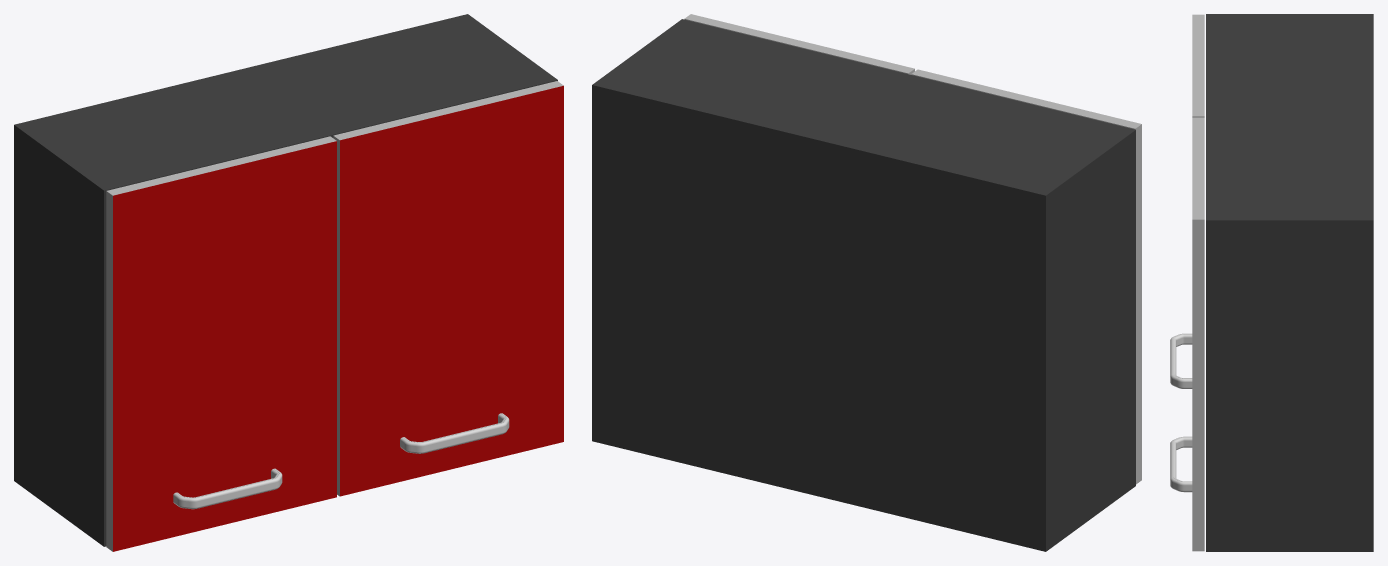
Rendered from pensileDoppio.obj.
3 views of the same model, side by side, from view 1: azimuth 30°, elevation 25°; view 2: azimuth 150°, elevation 25°; view 3: azimuth 270°, elevation 25° (orthographic). The views are drawn at different scales.
Parts seen in each view (by area): view 1: Box182_7, Box172_2, Box16_5, Box183_8, Box17_1, Box18_6, Loft09_9, Loft08_4, Box173_3; view 2: Box16_5, Box183_8, Box18_6, Box17_1; view 3: Box16_5, Box173_3, Box17_1, Box18_6, Loft08_4, Loft09_9.
Boxes of the visible parts, box(x1,y1,x2,y2) form: Box182_7: box(113, 141, 336, 551); Box172_2: box(340, 85, 563, 496); Box16_5: box(14, 14, 557, 546); Box183_8: box(106, 191, 112, 551); Box17_1: box(333, 81, 563, 140); Box18_6: box(107, 136, 336, 195); Loft09_9: box(173, 468, 282, 509); Loft08_4: box(400, 413, 509, 453); Box173_3: box(333, 136, 339, 496); Box16_5: box(592, 19, 1135, 551); Box183_8: box(911, 74, 1141, 484); Box18_6: box(911, 69, 1141, 128); Box17_1: box(684, 14, 914, 73); Box16_5: box(1206, 14, 1373, 551); Box173_3: box(1192, 219, 1204, 551); Box17_1: box(1192, 117, 1204, 219); Box18_6: box(1192, 14, 1204, 116); Loft08_4: box(1170, 436, 1192, 492); Loft09_9: box(1170, 333, 1192, 388).
Bounding box in the file's own units: 80 × 60 × 33.38.
